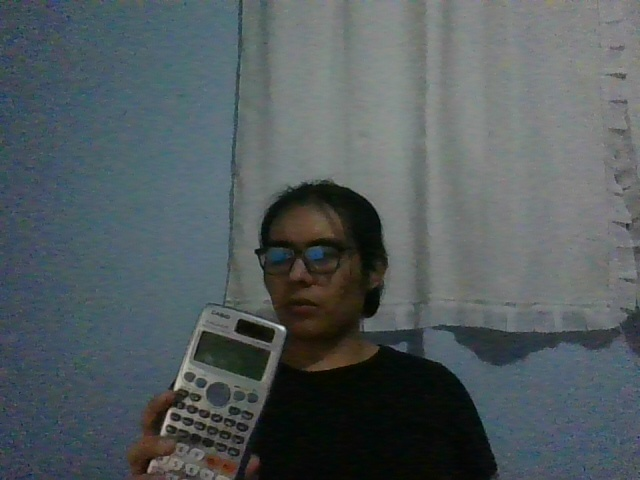calculadora: (145, 303, 288, 480)
